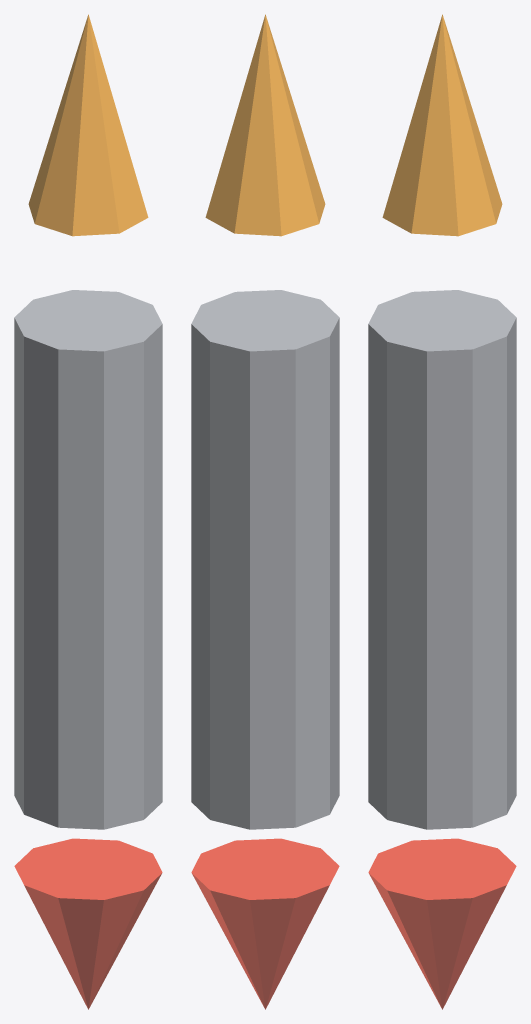
Rendered from rocket_projectile.glb.
3 views of the same model, side by side, from view 1: azimuth 30°, elevation 25°; view 2: azimuth 150°, elevation 25°; view 3: azimuth 330°, elevation 25° (orthographic).
Parts seen in each view (by area): view 1: body, flame, nose; view 2: body, flame, nose; view 3: body, flame, nose.
Boxes of the visible parts, x1=… form: body: x1=14, y1=290, x2=162, y2=829; flame: x1=28, y1=14, x2=148, y2=236; nose: x1=14, y1=838, x2=162, y2=1009; body: x1=191, y1=290, x2=339, y2=829; flame: x1=205, y1=14, x2=325, y2=236; nose: x1=191, y1=838, x2=339, y2=1009; body: x1=368, y1=290, x2=516, y2=829; flame: x1=382, y1=14, x2=502, y2=236; nose: x1=368, y1=838, x2=516, y2=1009.
Size of the model in its own units: 0.24 by 1.77 by 0.2283.
